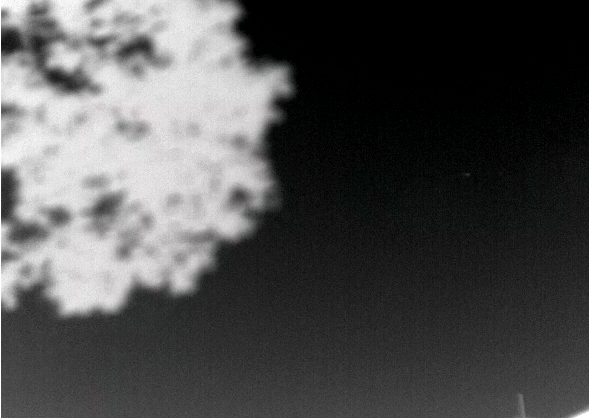dim target: (464, 171, 472, 177)
